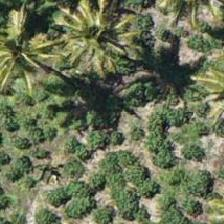coconut_tree: (49, 0, 139, 81), (0, 4, 61, 94)
